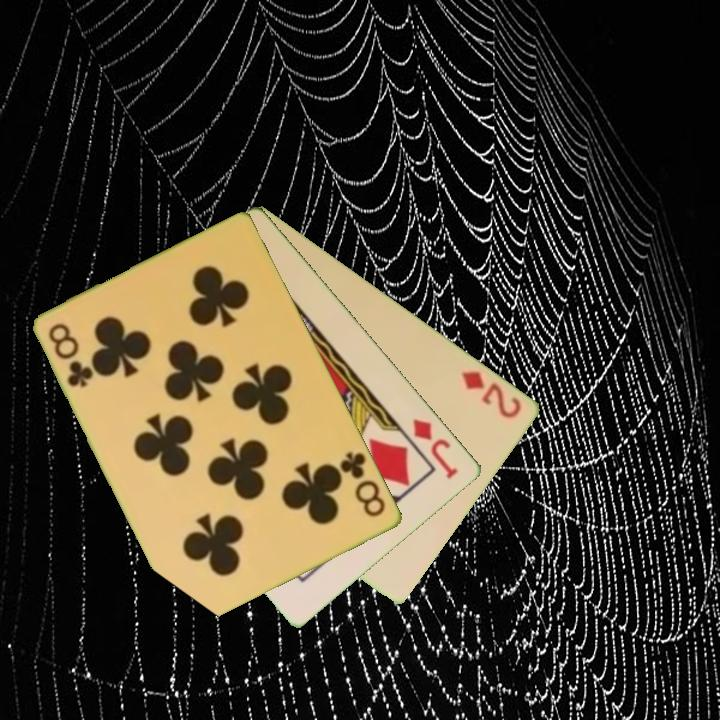2d: (458, 367, 525, 422)
8c: (336, 448, 389, 521), (45, 319, 97, 391)
Jd: (409, 415, 462, 482)
